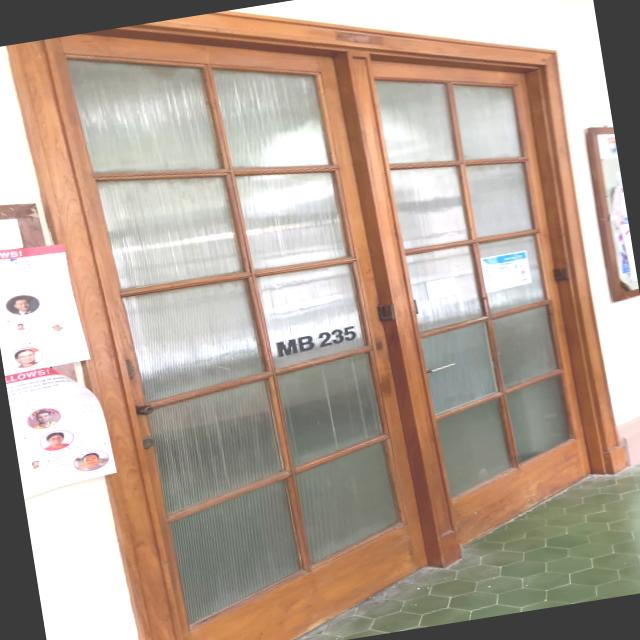room235Window: (270, 322, 362, 360)
